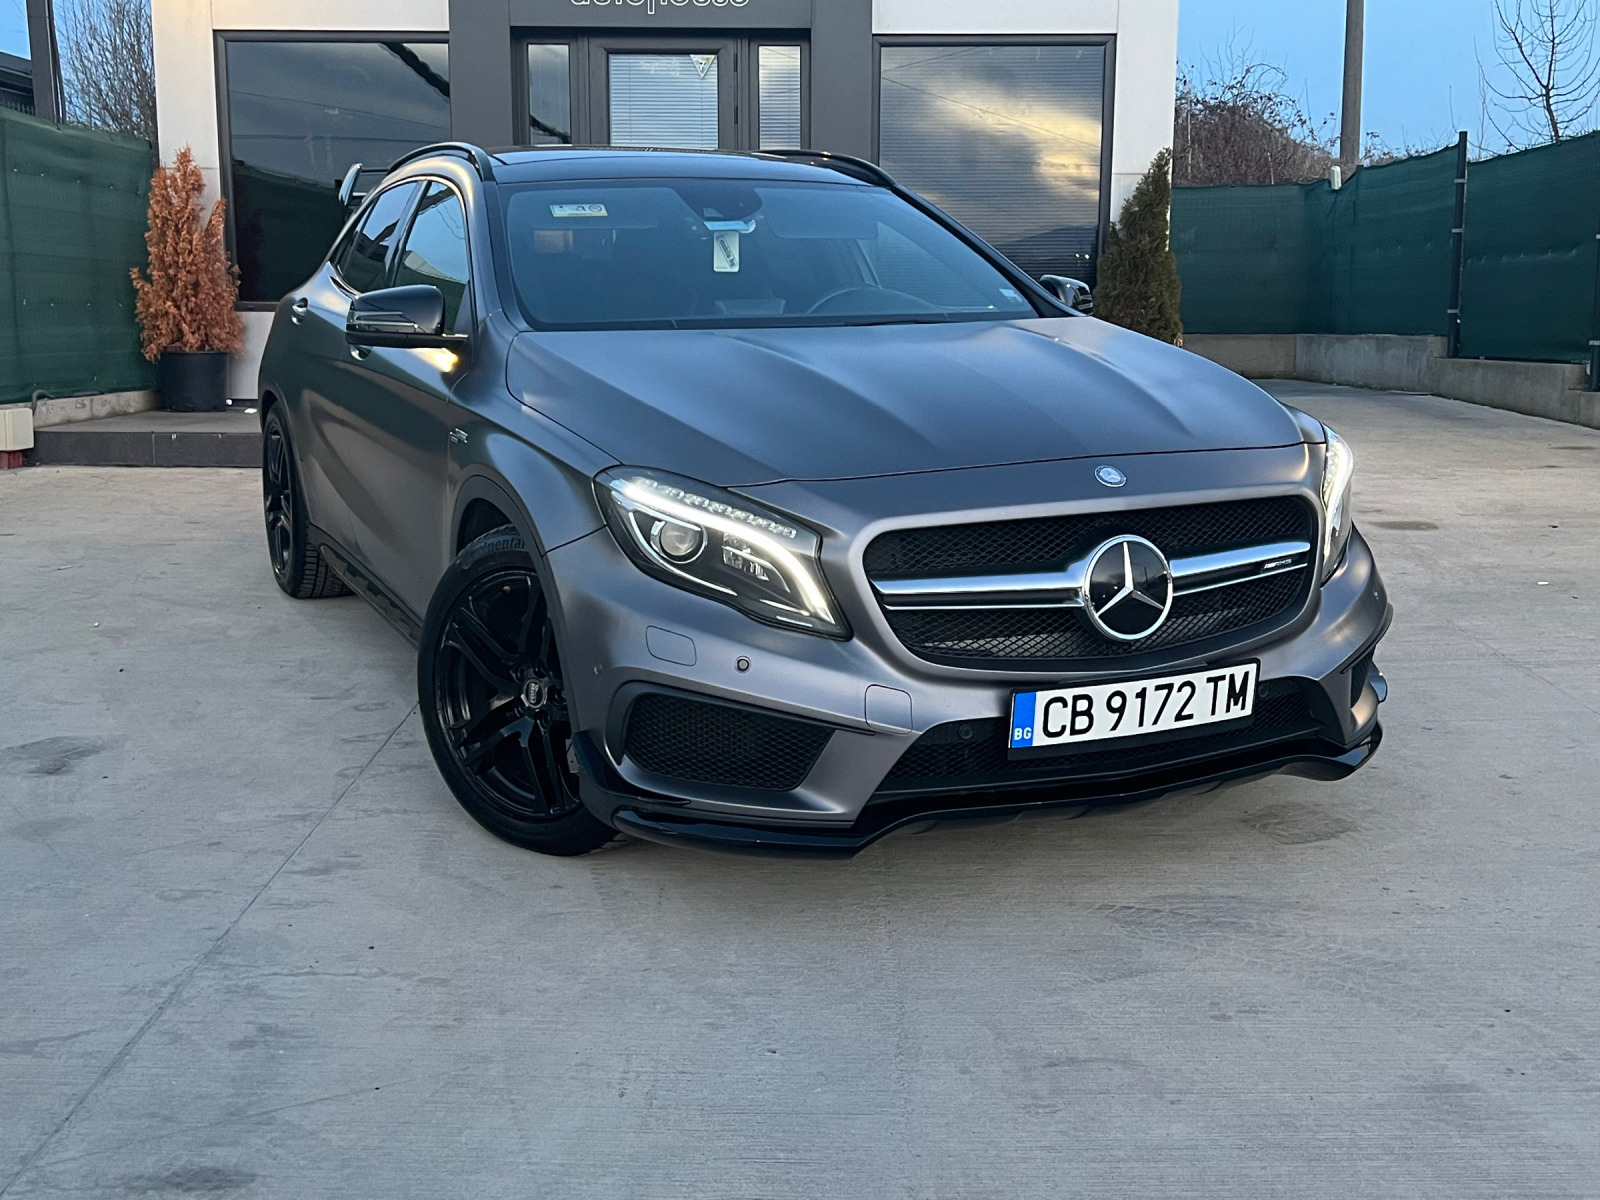registration_plate: (1011, 659, 1260, 762)
